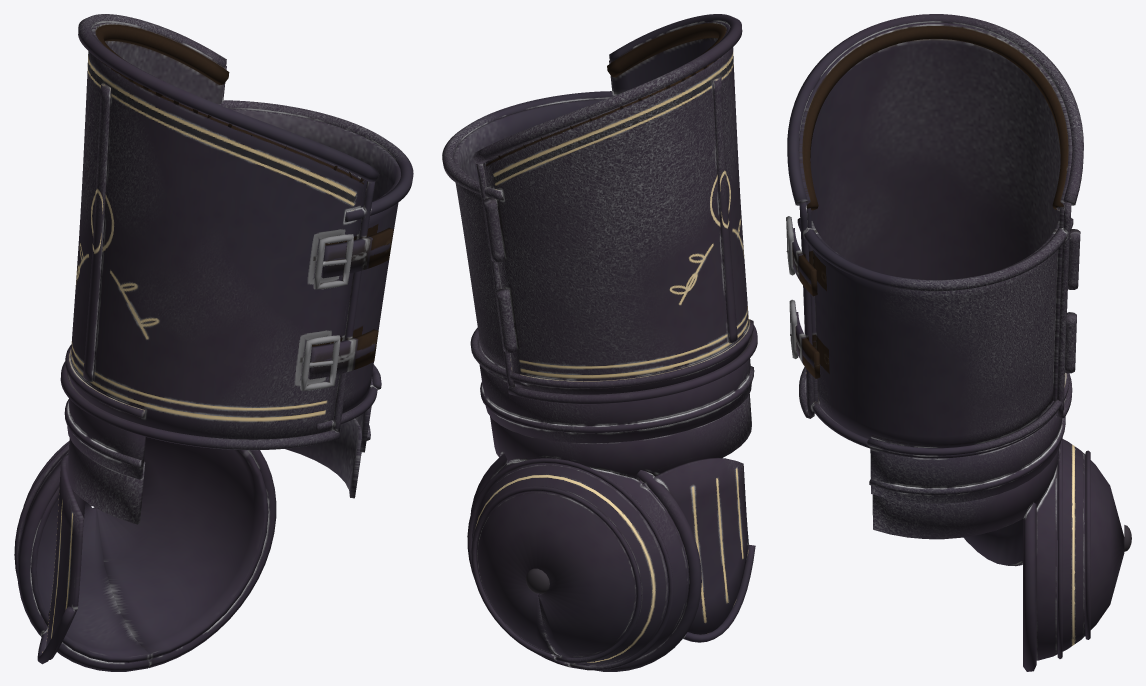
File: SM_ObsidianSovereign_UpperArms_R.fbx
3 views of the same model, side by side, from view 1: azimuth 30°, elevation 25°; view 2: azimuth 150°, elevation 25°; view 3: azimuth 270°, elevation 25° (orthographic). The views are drawn at different scales.
Visible parts, largest first — view 1: SM_ObsidianSovereign_UpperArms_R; view 2: SM_ObsidianSovereign_UpperArms_R; view 3: SM_ObsidianSovereign_UpperArms_R.
Boxes of the visible parts, <box> form: SM_ObsidianSovereign_UpperArms_R: <box>14,14,413,671</box>; SM_ObsidianSovereign_UpperArms_R: <box>442,14,757,671</box>; SM_ObsidianSovereign_UpperArms_R: <box>786,14,1131,671</box>.
Bounding box in the file's own units: 13.76 × 14.01 × 27.
